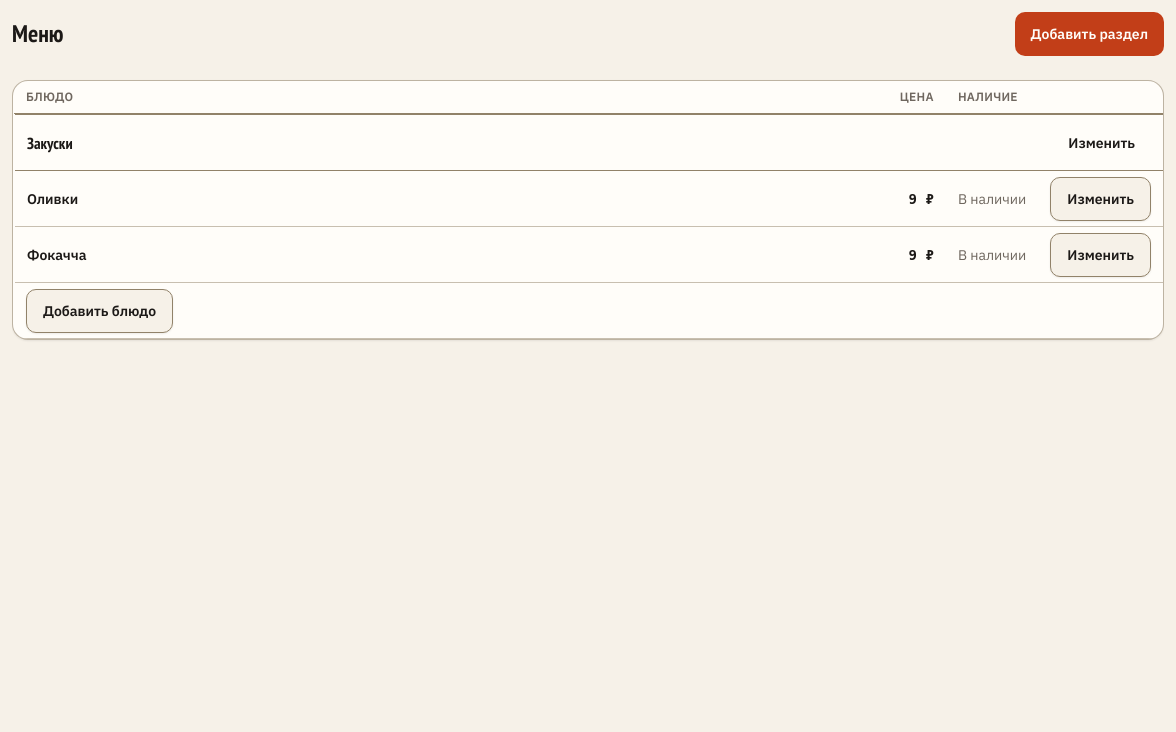
Scenario: MenuTable › opens a new dish past the last one rather than at the count of dishes
This screenshot has width=1176, height=732.
Click the button "Добавить блюдо".
click(100, 310)  # box [26,288,173,332]
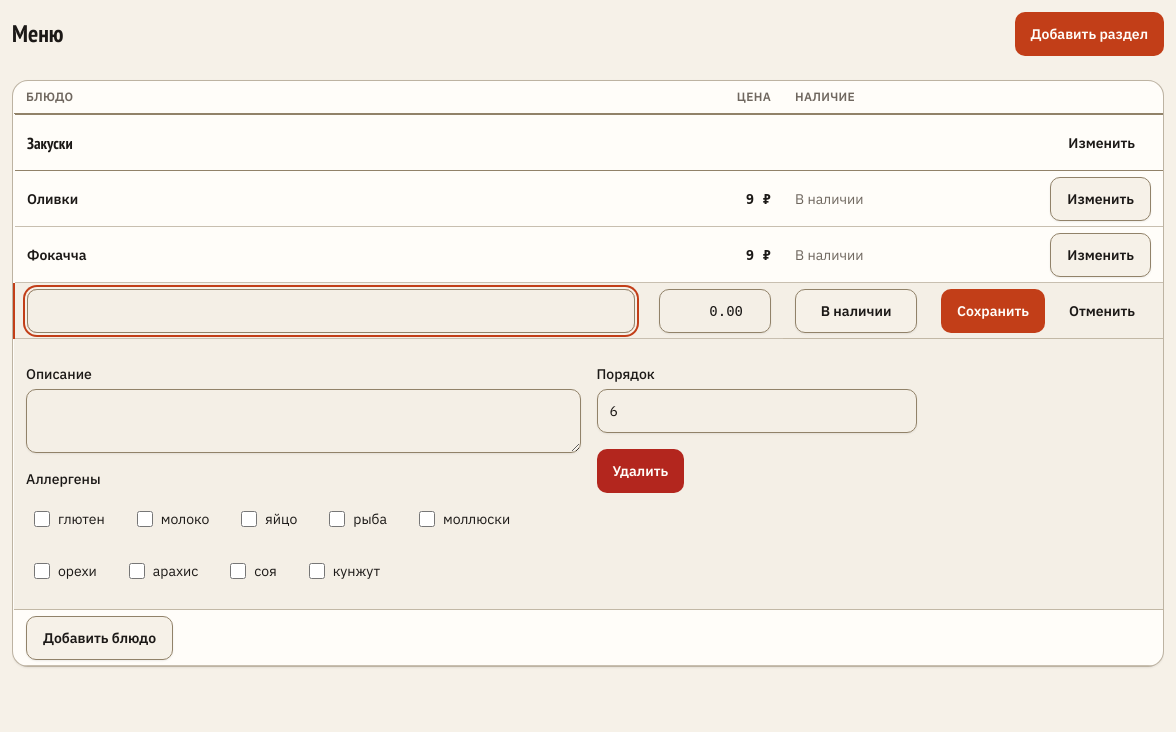
Expected: the number field labelled "Порядок" holds "6", [596,389,916,433]
